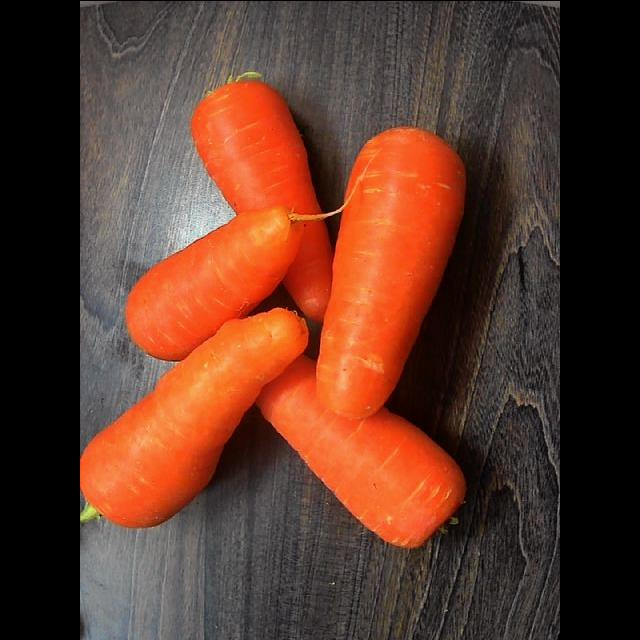zanahoria: (80, 307, 306, 526), (317, 127, 465, 417), (256, 355, 466, 545), (125, 205, 344, 359), (192, 72, 321, 213), (283, 222, 332, 320)
